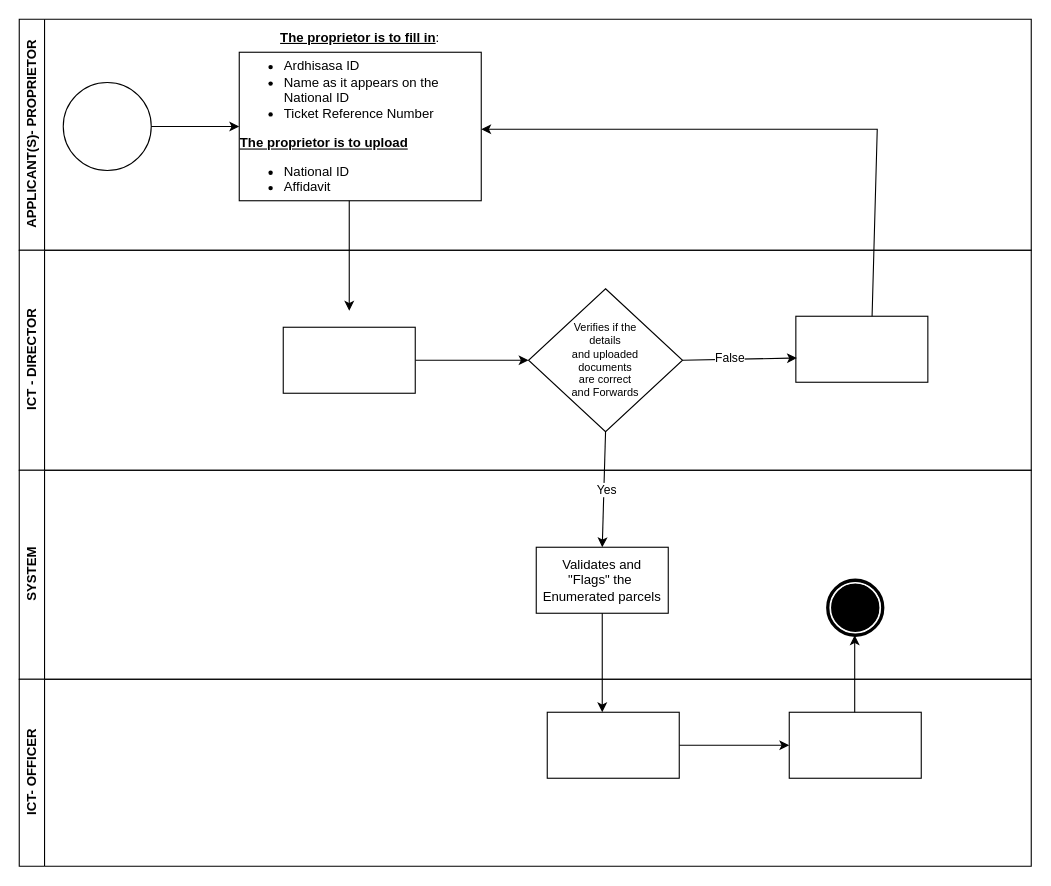
Some shapes in this 1051 by 886 pixel diagram are drawn without their labels. The shapes that lost their labels are listed below. From the top down, each one's centre as x and y in pixels, then its label:
the point at 348,359: Receives the application
the point at 861,348: To return to the Applicant.
the point at 612,744: Effects the name rectification update using the Ticket raised.
the point at 854,744: Approves the application
